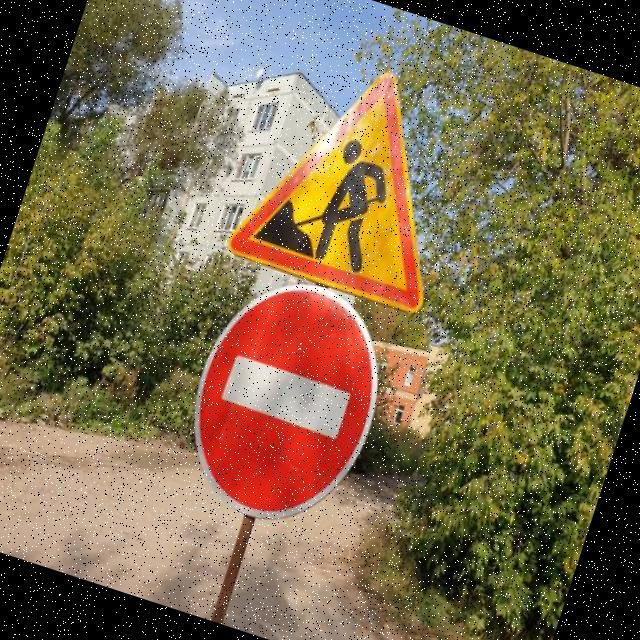do_not_enter: (147, 253, 406, 556)
